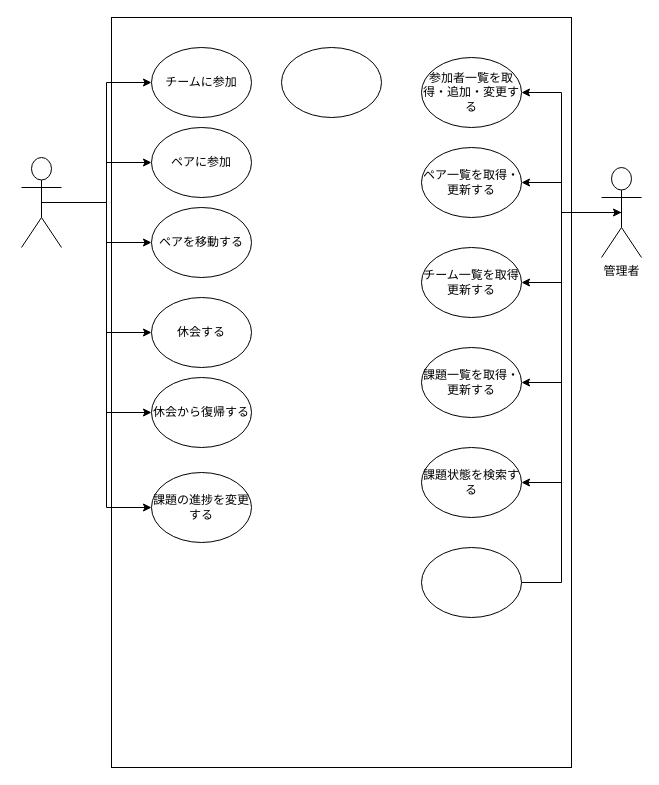
This 659x785 diagram has some shape labels left out. The shapes that lost their labels are listed below. From the top down, each one's box as (x1, y1, x2, y2) in pixels, then its label:
(280, 46, 382, 118): ペアを分解する
(20, 156, 62, 248): メンバー
(420, 546, 522, 618): 合流可能なペアがない旨を通知する
